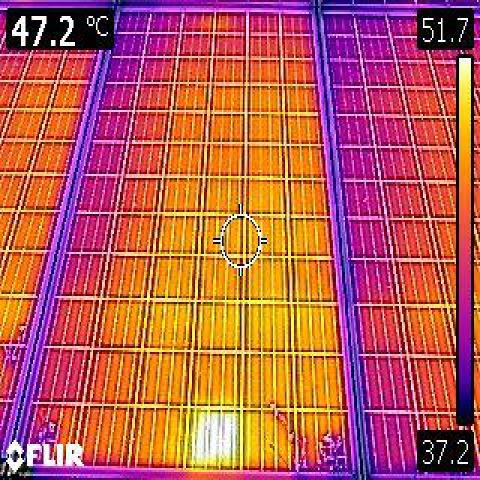fault: (186, 404, 244, 470)
